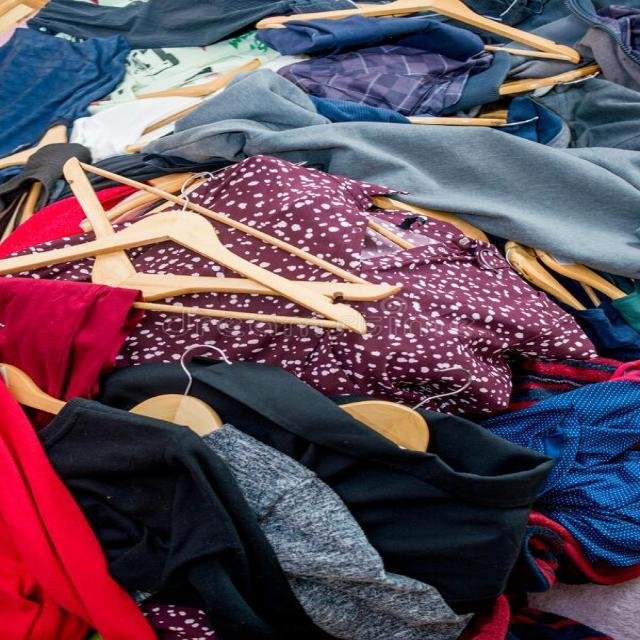clothes: (40, 19, 605, 610)
